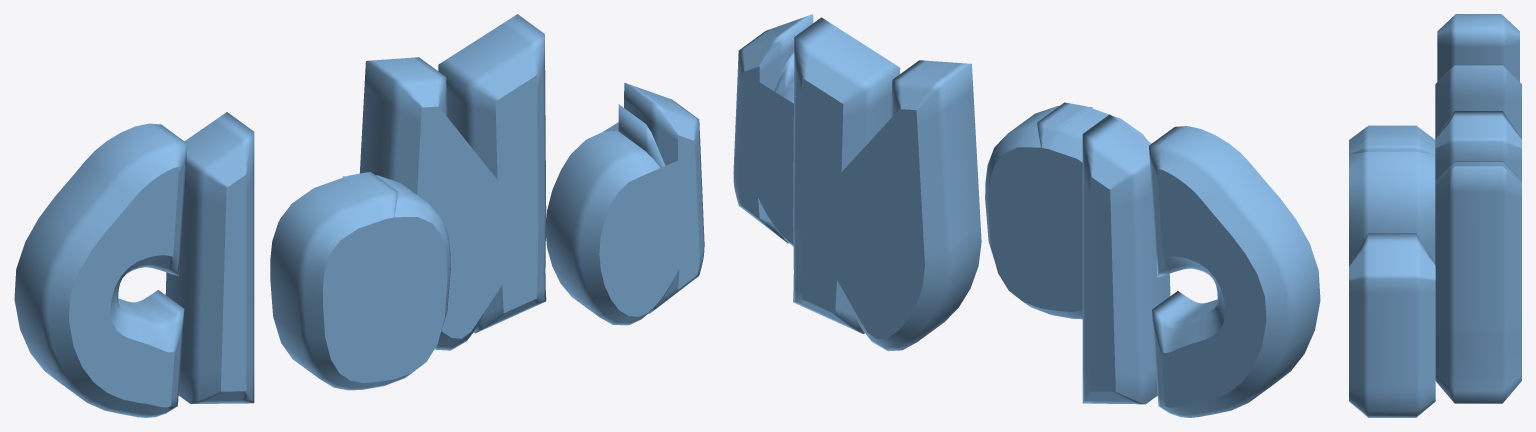
Rendered from cloud.fbx.
The picture shows the model from 3 angles, left to right: view 1: azimuth 30°, elevation 25°; view 2: azimuth 150°, elevation 25°; view 3: azimuth 270°, elevation 25°; orthographic projection. The views are drawn at different scales.
Visible parts, largest first — view 1: bevelPolygon3, bevelPolygon1, bevelPolygon5, bevelPolygon4, bevelPolygon2; view 2: bevelPolygon3, bevelPolygon1, bevelPolygon2, bevelPolygon5, bevelPolygon4; view 3: bevelPolygon3, bevelPolygon4, bevelPolygon5, bevelPolygon2, bevelPolygon1.
Boxes of the visible parts, x1,y1,x2,y2 form: bevelPolygon3: (359, 14, 546, 350); bevelPolygon1: (14, 123, 187, 417); bevelPolygon5: (270, 171, 450, 390); bevelPolygon4: (545, 82, 704, 325); bevelPolygon2: (165, 112, 254, 403); bevelPolygon3: (793, 17, 981, 351); bevelPolygon1: (1149, 126, 1320, 417); bevelPolygon2: (1082, 114, 1170, 404); bevelPolygon5: (985, 102, 1147, 319); bevelPolygon4: (733, 14, 813, 246); bevelPolygon3: (1435, 111, 1521, 403); bevelPolygon4: (1349, 233, 1435, 417); bevelPolygon5: (1349, 125, 1435, 264); bevelPolygon2: (1435, 64, 1521, 138); bevelPolygon1: (1437, 14, 1519, 81).
Bounding box in the file's own units: 3.25 × 1.51 × 0.9.
